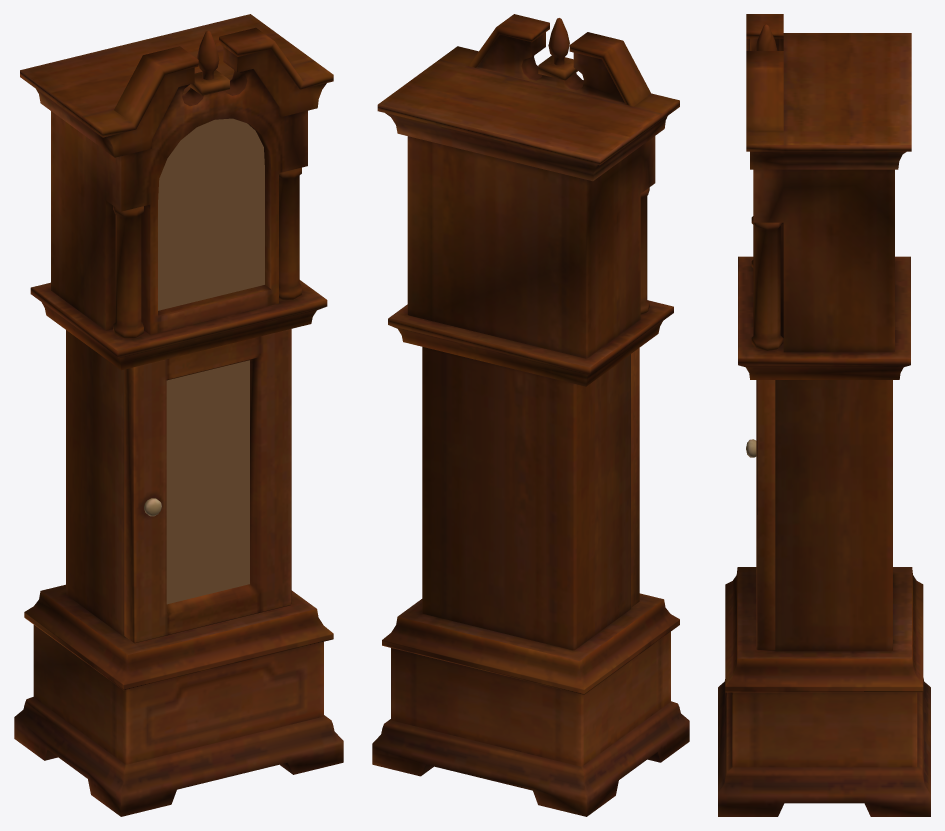
Rendered from antique-clock.glb.
3 renders of one model, left to right at view 1: azimuth 30°, elevation 25°; view 2: azimuth 150°, elevation 25°; view 3: azimuth 270°, elevation 25°, orthographic. The views are drawn at different scales.
Parts seen in each view (by area): view 1: FtrAntiqueClock_node7, FtrAntiqueClock_node5; view 2: FtrAntiqueClock_node7; view 3: FtrAntiqueClock_node7.
Boxes of the visible parts, x1=… form: FtrAntiqueClock_node7: x1=14, y1=14, x2=343, y2=816; FtrAntiqueClock_node5: x1=158, y1=118, x2=264, y2=604; FtrAntiqueClock_node7: x1=372, y1=14, x2=689, y2=816; FtrAntiqueClock_node7: x1=718, y1=14, x2=930, y2=816.
Bounding box in the file's own units: 8.68 × 26.66 × 6.97.
Materials: 3 (2 with a texture image).
